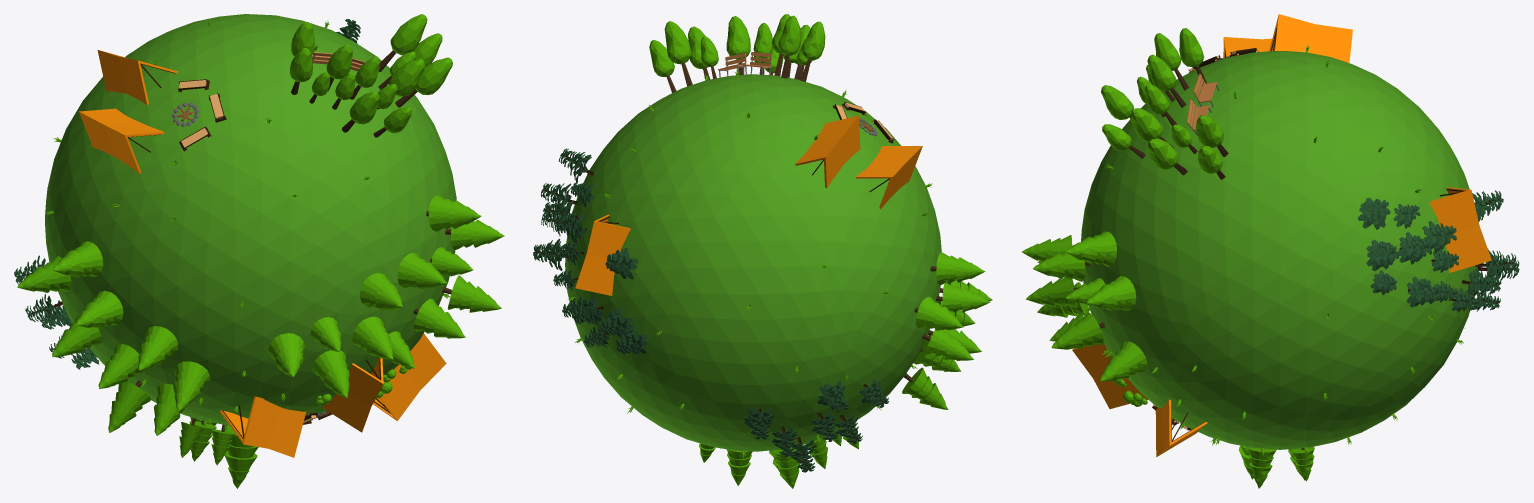
Rendered from CampPlanet.fbx.
3 renders of one model, left to right at view 1: azimuth 30°, elevation 25°; view 2: azimuth 150°, elevation 25°; view 3: azimuth 270°, elevation 25°, orthographic. The views are drawn at different scales.
Parts seen in each view (by area): view 1: Cube.111; view 2: Cube.111; view 3: Cube.111.
Part boxes in pixels (left/top/right/bottom): Cube.111: left=14, top=14, right=504, bottom=488; Cube.111: left=533, top=14, right=992, bottom=488; Cube.111: left=1022, top=14, right=1519, bottom=488.
Bounding box in the file's own units: 2307 × 2581 × 2493.
